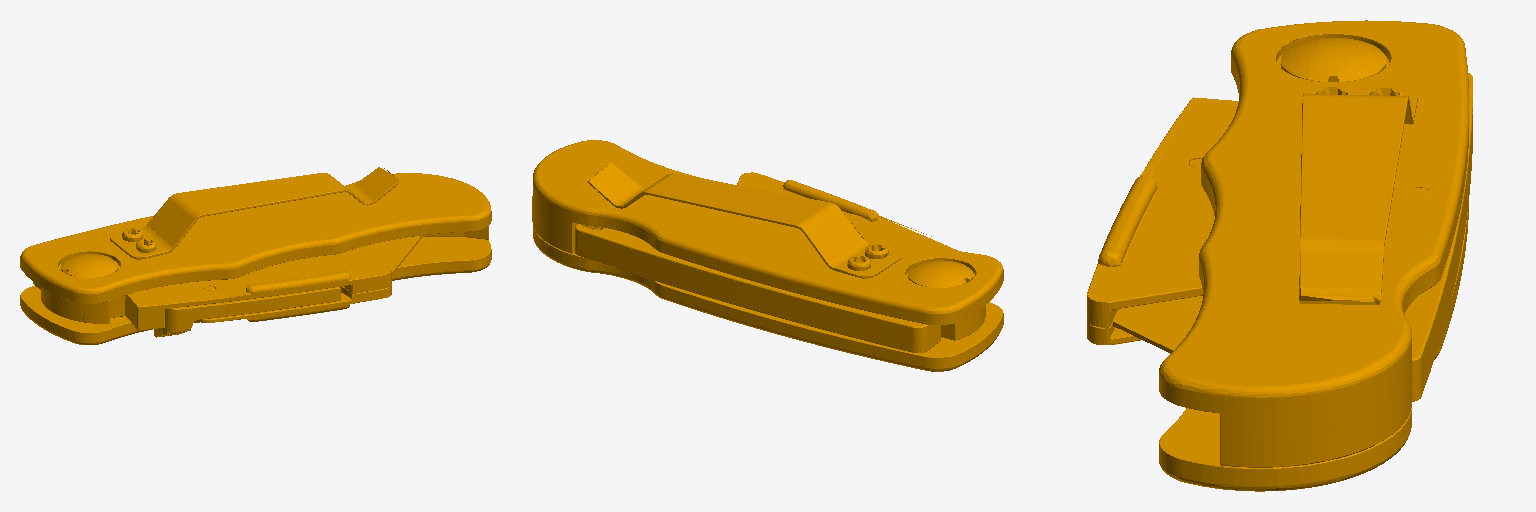
URDF robot description (utilityknife_1):
<?xml version="1.0" encoding="utf-8"?>
<robot name="utilityknife_1">
  <link name="utilityknife_1Link">
    <contact>
      <lateral_friction value="1.0"/>
      <rolling_friction value="0.0"/>
      <contact_cfm value="0.0"/>
      <contact_erp value="1.0"/>
    </contact>
    <inertial>
      <origin rpy="0 0 0" xyz="0 0 0"/>
      <mass value="0.1"/>
      <inertia ixx="0.1" ixy="0" ixz="0" iyy="0.1" iyz="0" izz="0.1"/>
    </inertial>
    <visual>
      <origin rpy="0 0 0" xyz="0 0 0"/>
      <geometry>
        <mesh filename="generated_stl/utilityknife/utilityknife_1.stl" scale="0.001 0.001 0.001"/>
      </geometry>
    </visual>
    <collision>
      <origin rpy="0 0 0" xyz="0 0 0"/>
      <geometry>
        <mesh filename="generated_stl/utilityknife/utilityknife_1.stl" scale="0.001 0.001 0.001"/>
      </geometry>
    </collision>
  </link>
</robot>

--- Render facts (derived) ---
Views: 3 orthographic renders of the robot side by side, from view 1: azimuth 30°, elevation 25°; view 2: azimuth 150°, elevation 25°; view 3: azimuth 270°, elevation 25°.
Model utilityknife_1 with 1 links and 0 joints (none), rooted at utilityknife_1Link, posed every joint at zero.
Links seen in each view (by area): view 1: utilityknife_1Link; view 2: utilityknife_1Link; view 3: utilityknife_1Link.
Link boxes in pixels (<box>): utilityknife_1Link: <box>20,167,491,344</box>; utilityknife_1Link: <box>532,140,1003,371</box>; utilityknife_1Link: <box>1087,20,1472,491</box>.
Bounding box of the posed robot: 0.0918 × 0.0402 × 0.0197 m (x, y, z).
Meshes: 1 distinct files referenced, 1 mesh visuals loaded (1 binary STL).